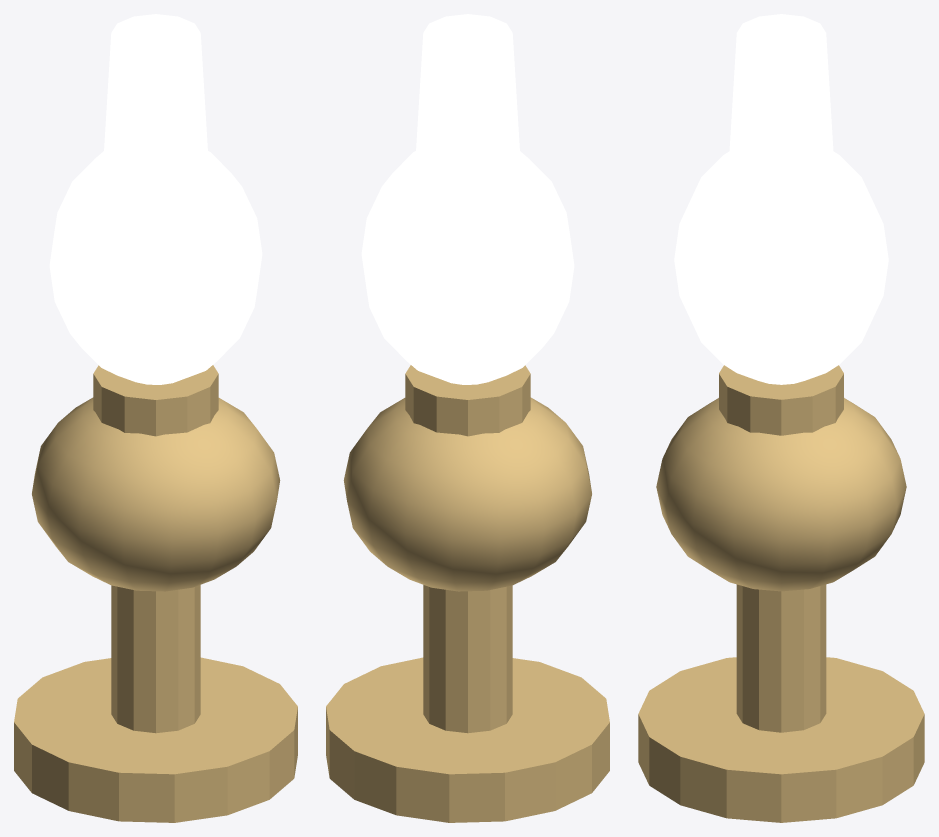
File: OilLamp.glb
3 views of the same model, side by side, from view 1: azimuth 30°, elevation 25°; view 2: azimuth 150°, elevation 25°; view 3: azimuth 270°, elevation 25° (orthographic).
Parts seen in each view (by area): view 1: OilLamp; view 2: OilLamp; view 3: OilLamp.
Part boxes in pixels (x1,y1,x2,y2): OilLamp: (14,14,297,822); OilLamp: (326,14,609,822); OilLamp: (638,14,924,822).
Size of the model in its own units: 0.16 by 0.45 by 0.16.
